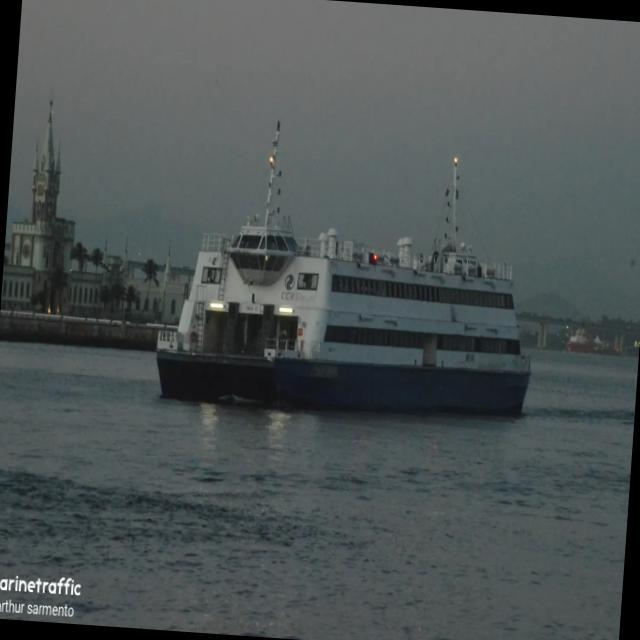Passenger: (156, 122, 530, 415)
